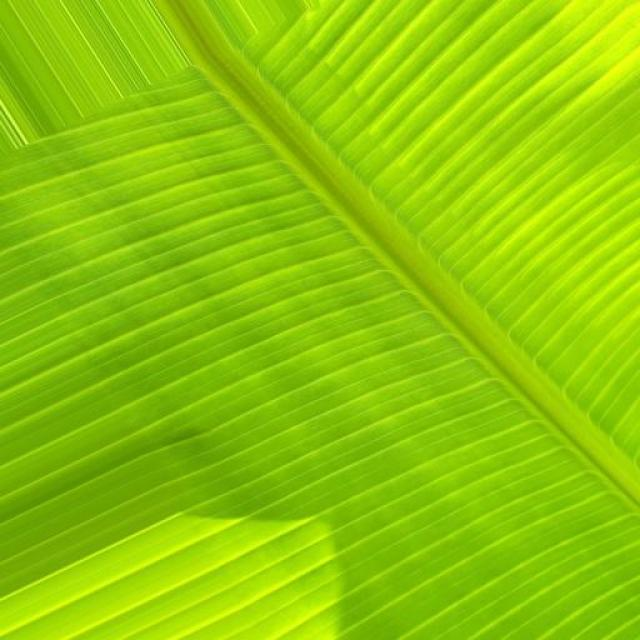Black_leaf_spot: (0, 0, 622, 609)
